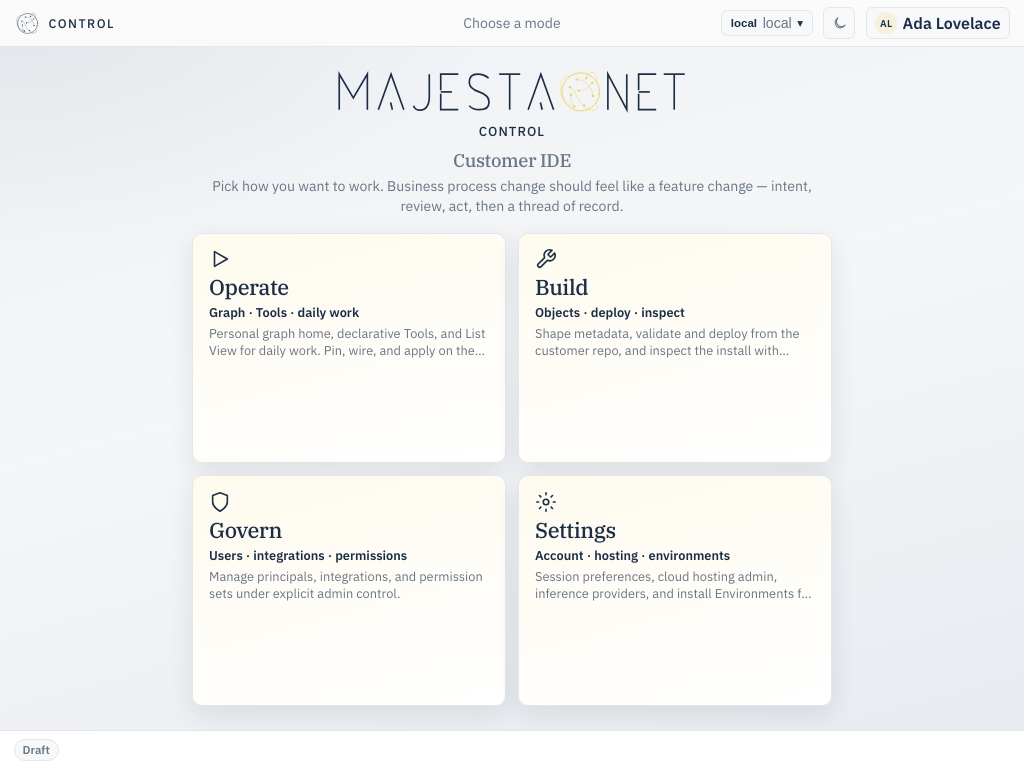
Test: App › keeps My graph immersive without redundant tile chrome
Expected: the element with test id "mode-launcher" is shown, [192,67,832,706]
Click the button with test id "mode-launch-operate".
click(349, 348)  # box [192,233,506,464]
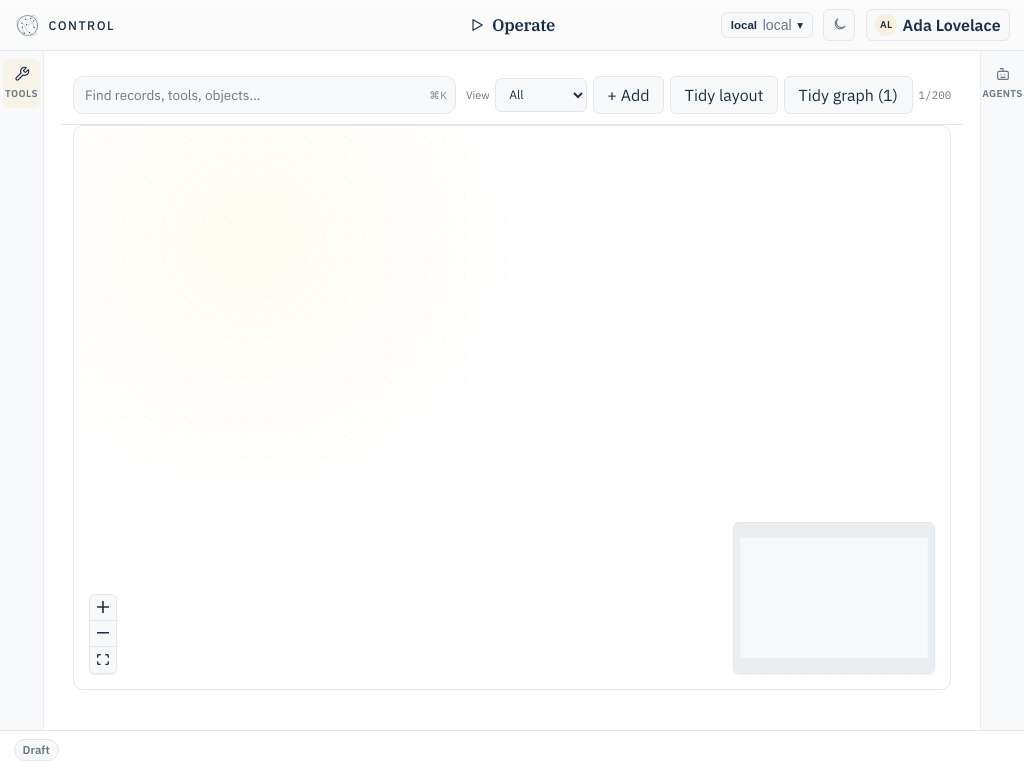
Result: the element with test id "run-graph-home" is shown
